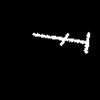double_crochet: (33, 32, 89, 52)
